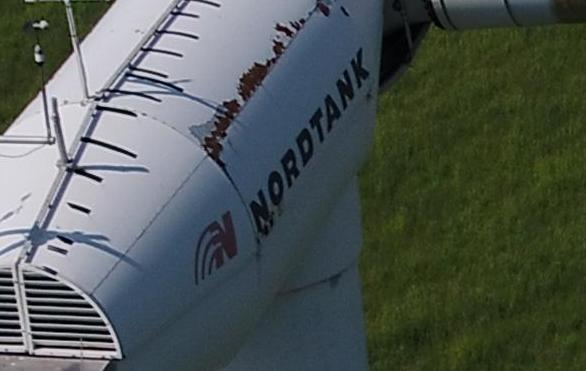damage: (200, 98, 242, 166), (237, 61, 268, 100), (269, 39, 287, 65), (274, 22, 295, 40), (317, 1, 331, 16), (291, 17, 305, 31)
